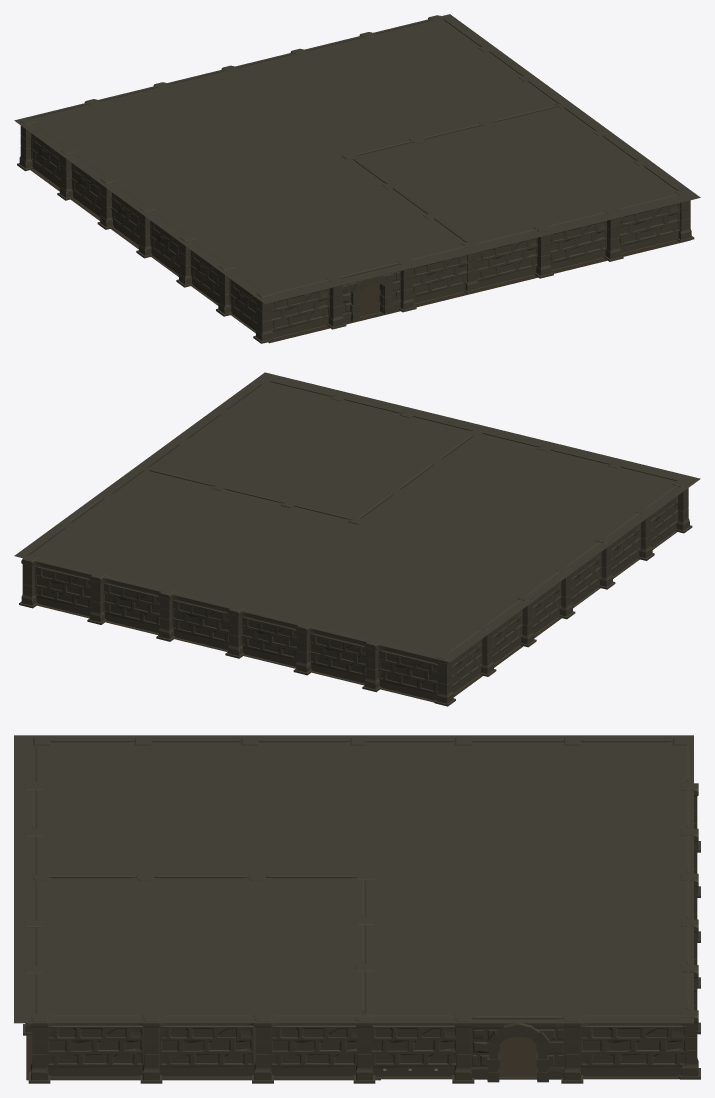
Rendered from 4komnata1lvl.fbx.
3 renders of one model, top to bottom at view 1: azimuth 30°, elevation 25°; view 2: azimuth 150°, elevation 25°; view 3: azimuth 270°, elevation 25°, orthographic. The views are drawn at different scales.
Visible parts, largest first — view 1: криша 2.002, Plane.066, Plane.087, Plane.086, Plane.065, Plane.085, Plane.069, Plane.498, Plane.051, Plane.053, Plane.052, Plane.062 (+15 smaller); view 2: криша 2.002, Plane.055, Plane.058, Plane.059, Plane.056, Plane.057, Plane.060, Plane.051, Plane.052, Plane.053, Plane.066, Plane.062 (+15 smaller); view 3: криша 2.002, Plane.063, Plane.084, Plane.083, Plane.077, Plane.064, Plane.497, Plane.066, Cube.079, Cube.080, Cube.077, Cube.059 (+3 smaller).
Boxes of the visible parts, x1,y1,x2,y2 form: криша 2.002: (14, 14, 700, 303); Plane.066: (30, 169, 690, 343); Plane.087: (477, 229, 537, 288); Plane.086: (616, 194, 680, 253); Plane.065: (271, 280, 329, 338); Plane.085: (547, 212, 606, 270); Plane.069: (410, 246, 468, 304); Plane.498: (340, 263, 400, 322); Plane.051: (70, 151, 105, 217); Plane.053: (150, 210, 184, 275); Plane.052: (31, 123, 65, 188); Plane.062: (190, 239, 223, 304); криша 2.002: (14, 372, 700, 662); Plane.055: (378, 642, 440, 700); Plane.058: (172, 592, 231, 650); Plane.059: (103, 575, 162, 633); Plane.056: (309, 625, 368, 684); Plane.057: (241, 609, 300, 667); Plane.060: (35, 558, 94, 616); Plane.051: (486, 599, 522, 664); Plane.052: (448, 629, 482, 694); Plane.053: (566, 542, 601, 606); Plane.066: (36, 531, 677, 702); Plane.062: (606, 513, 640, 577); криша 2.002: (14, 735, 693, 1023); Plane.063: (580, 1015, 687, 1077); Plane.084: (47, 1015, 143, 1077); Plane.083: (159, 1015, 253, 1077); Plane.077: (270, 1015, 363, 1077); Plane.064: (364, 1015, 457, 1077); Plane.497: (471, 1018, 564, 1082); Plane.066: (26, 1023, 691, 1080); Cube.079: (252, 1014, 273, 1083); Cube.080: (140, 1014, 162, 1083); Cube.077: (28, 1014, 50, 1083); Cube.059: (452, 1014, 474, 1083).
Size of the model in its own units: 7897 by 837 by 7955.
